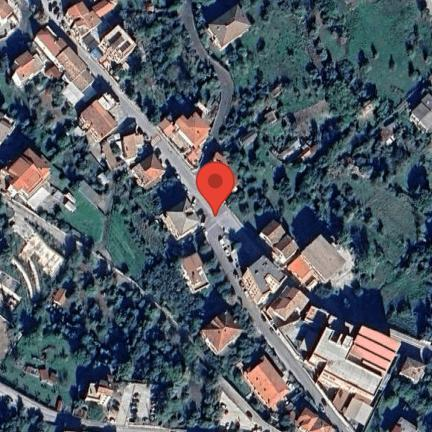area_open: (0, 199, 69, 360), (120, 379, 156, 426)
built: (242, 256, 403, 432), (11, 25, 166, 189), (260, 218, 347, 293), (57, 1, 137, 79), (208, 363, 285, 432), (158, 110, 216, 173), (3, 151, 55, 209), (242, 354, 290, 405), (202, 7, 252, 54), (199, 312, 242, 353), (164, 201, 198, 243), (182, 250, 210, 298), (290, 403, 336, 432), (87, 379, 120, 416), (0, 3, 23, 40), (409, 97, 431, 133), (52, 286, 72, 313), (403, 355, 423, 382), (393, 415, 421, 431), (35, 370, 57, 389)
vegetation_high: (217, 38, 428, 259), (4, 77, 169, 251), (62, 254, 209, 429), (123, 3, 214, 117), (393, 244, 426, 339)
vegetation_low: (255, 3, 428, 105), (37, 176, 156, 285), (338, 168, 415, 324), (0, 309, 62, 407), (40, 310, 82, 388)
